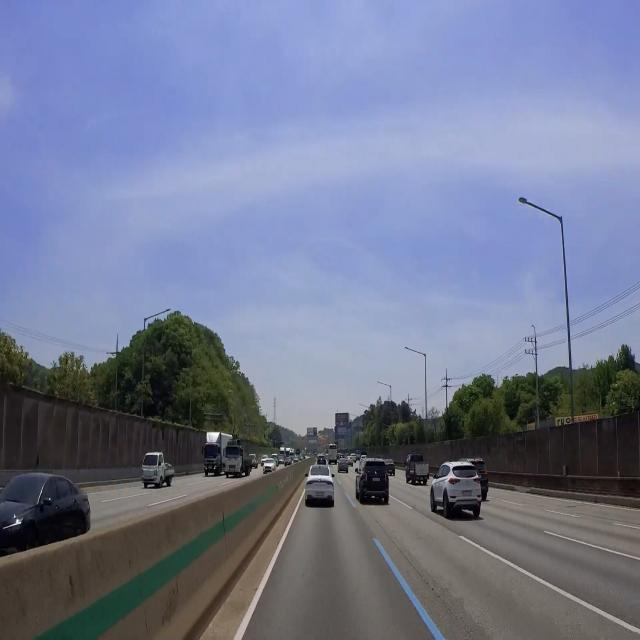car: (460, 484, 474, 499), (371, 474, 383, 487), (313, 490, 328, 499), (418, 475, 426, 484), (144, 474, 153, 480), (476, 474, 483, 480), (207, 464, 213, 470), (229, 468, 235, 472)
